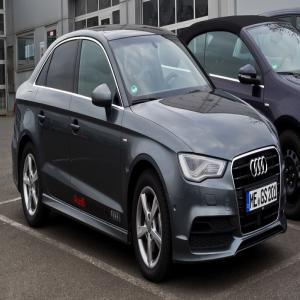Vehicle-registration-plate: (246, 179, 278, 215)
